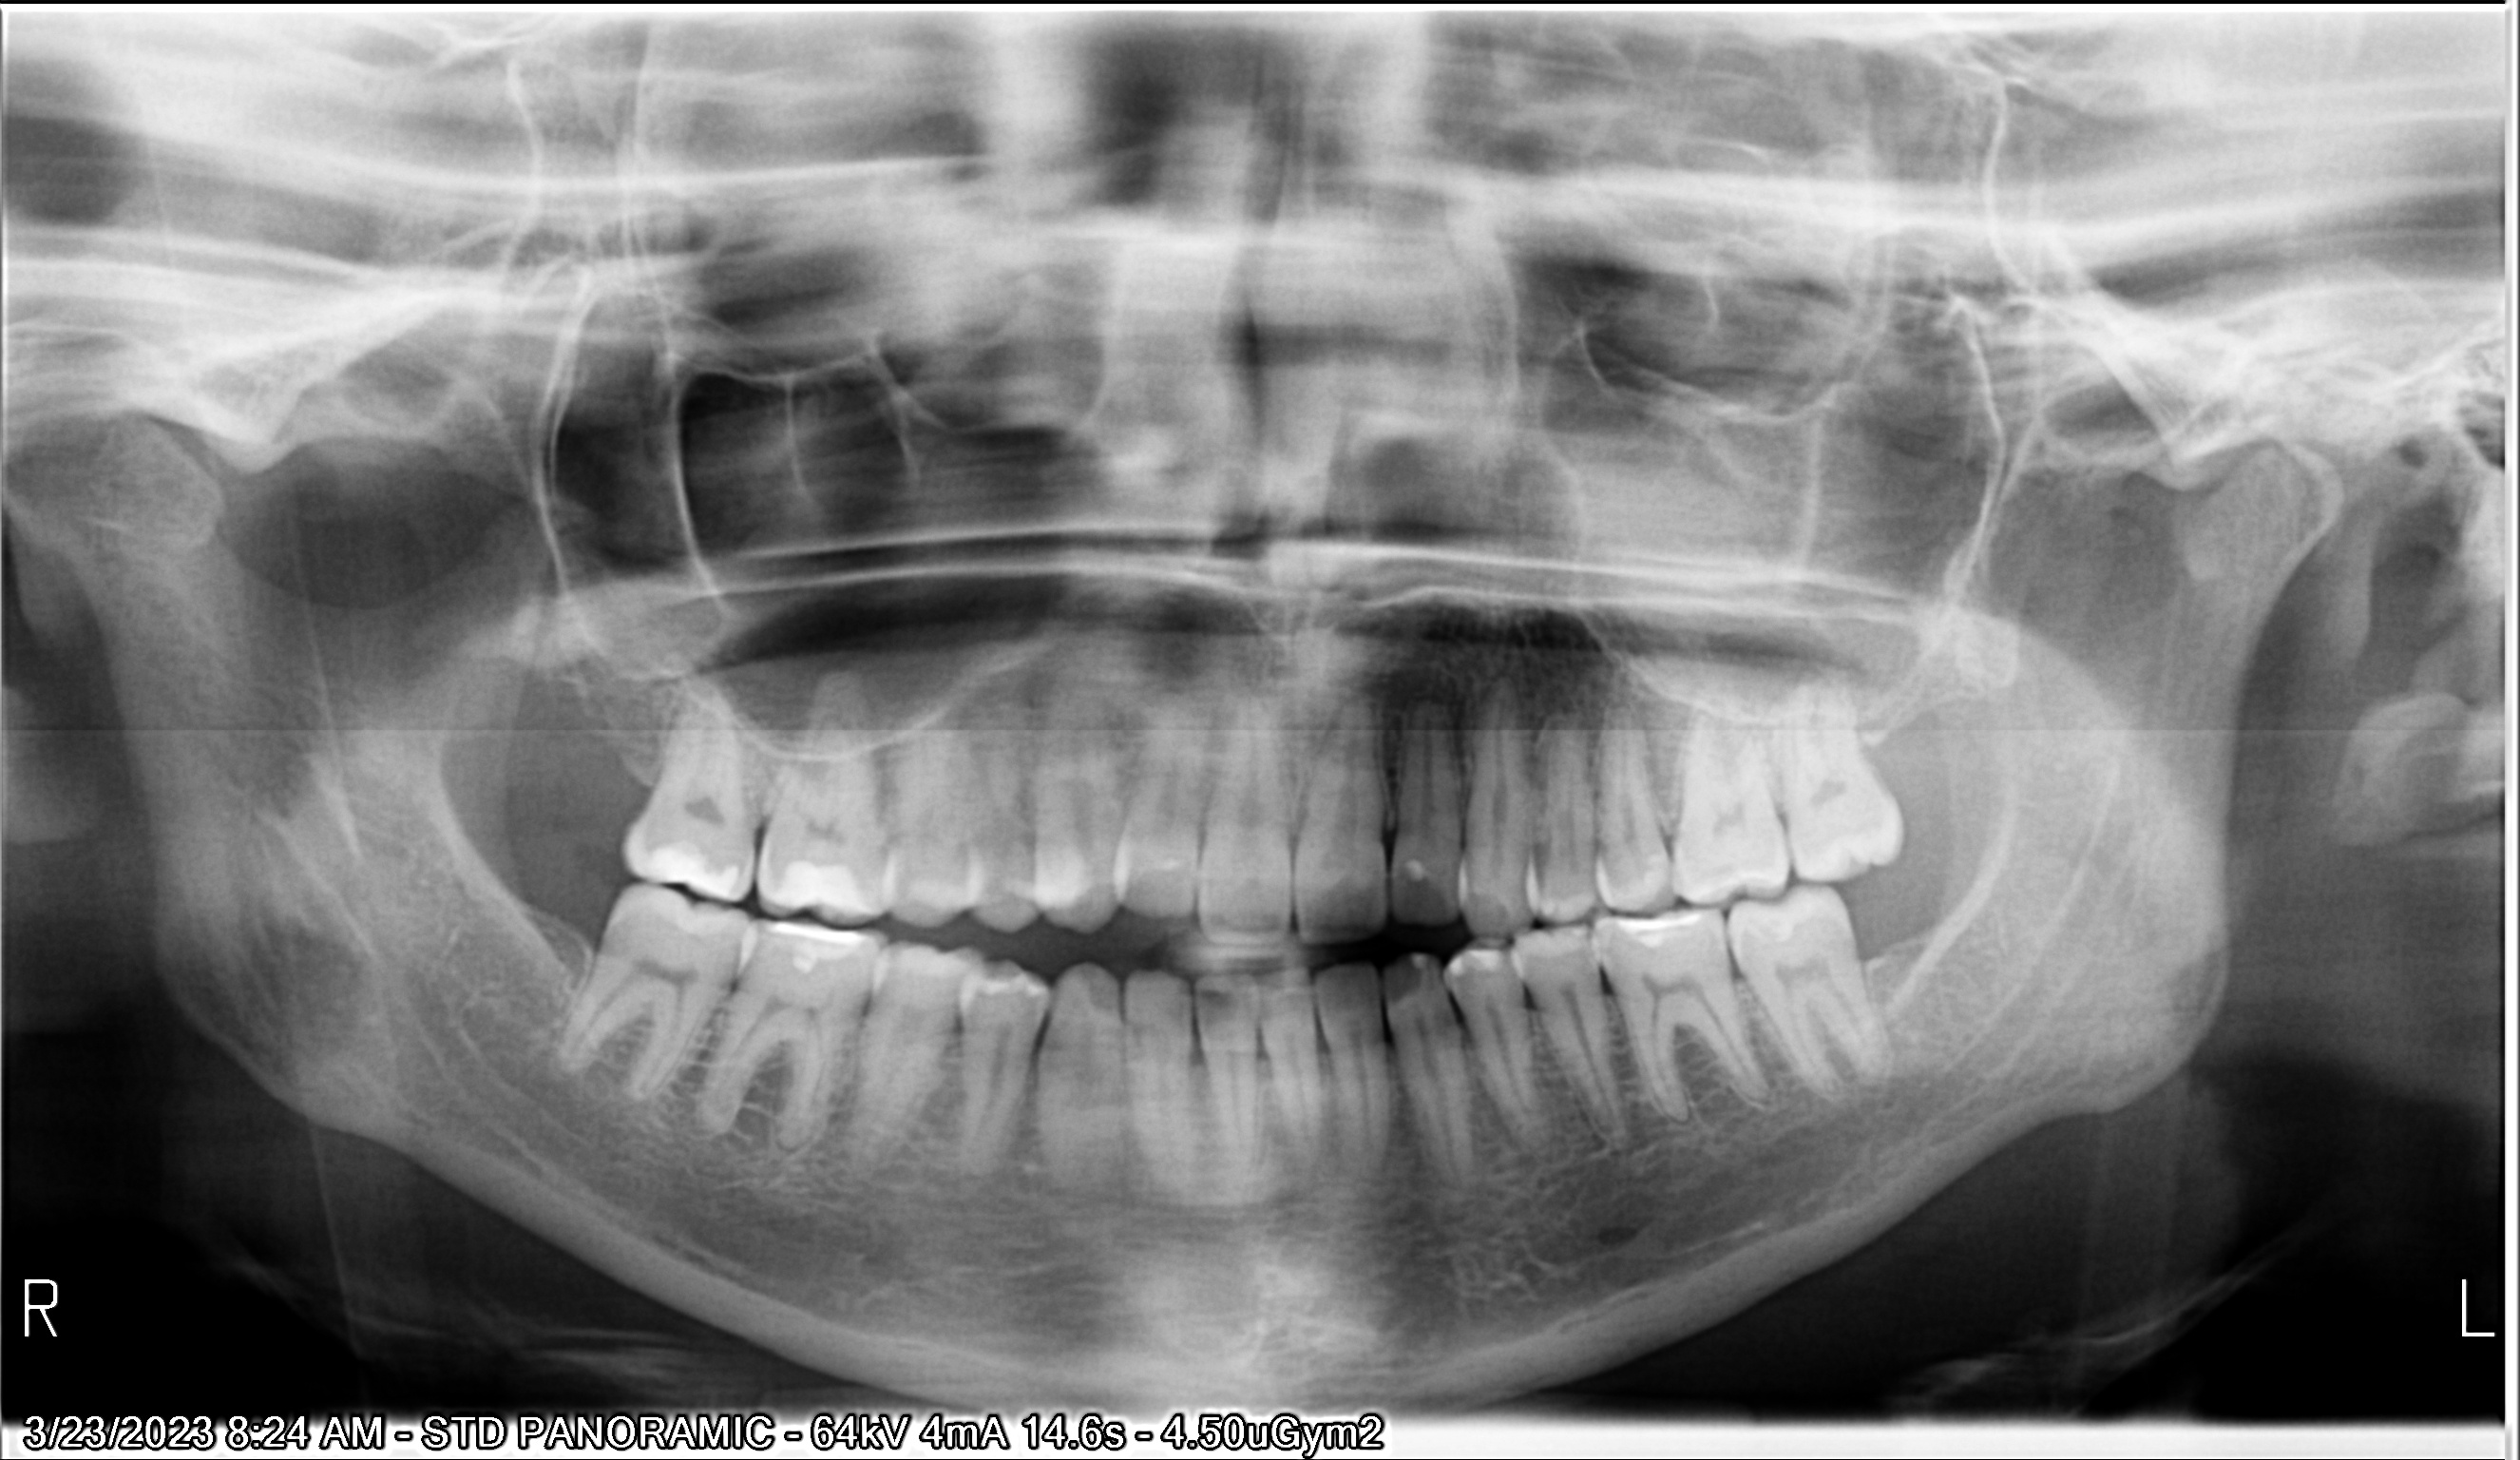CAR: (1285, 860, 1367, 956), (1056, 956, 1139, 1032), (1391, 864, 1459, 944), (1382, 944, 1436, 1039)
OBT: (589, 826, 759, 897), (752, 864, 884, 939), (1579, 919, 1704, 989), (752, 911, 856, 992), (1433, 944, 1511, 1003)
